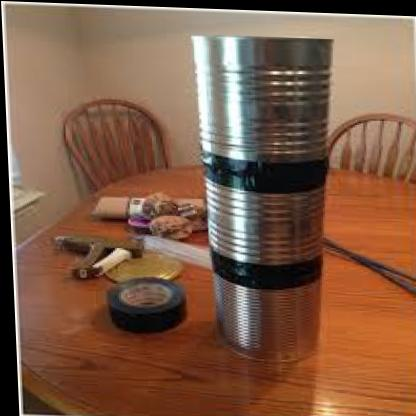Metal: (197, 12, 363, 356)
